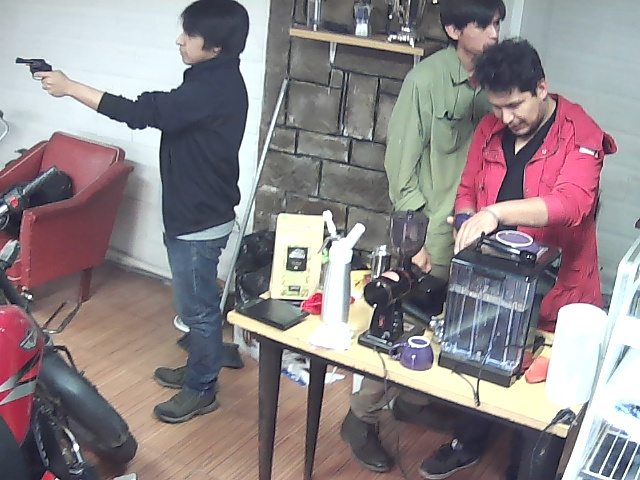pistola: (5, 51, 74, 100)
